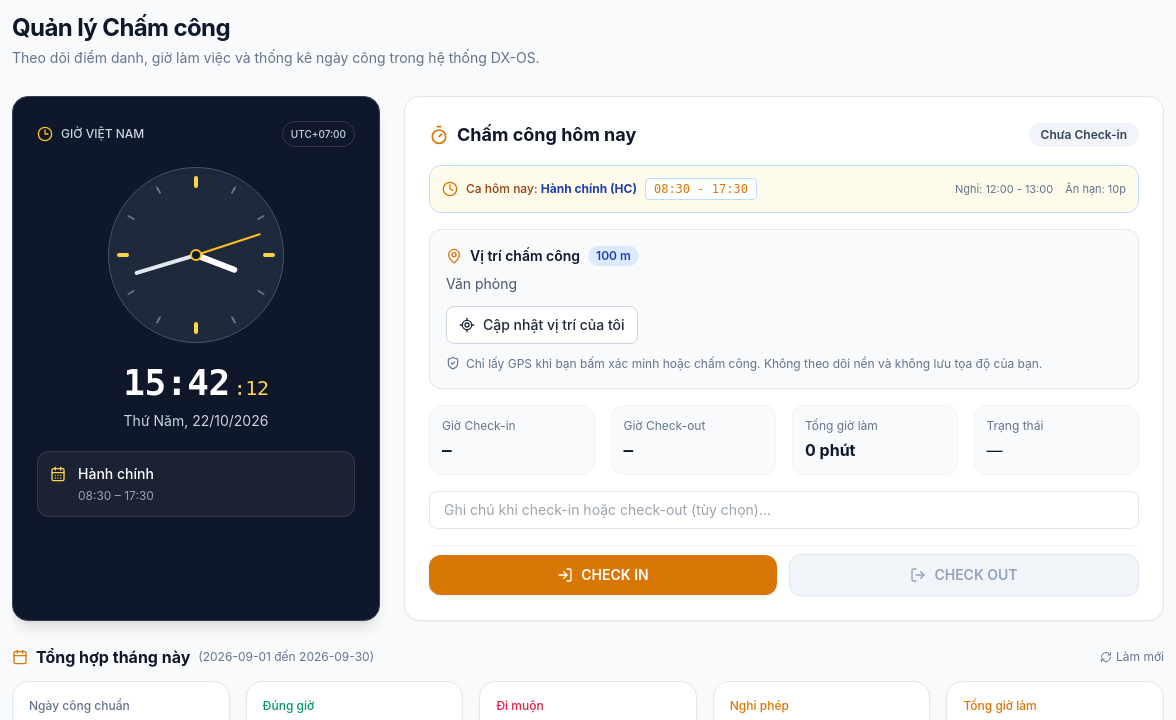
Test: AttendancePage Component & User Flows › 12. rejects a distant device and displays its distance without posting
Click the button "Cập nhật vị trí của tôi". click: {"x": 542, "y": 325}
box: [446,306,638,344]
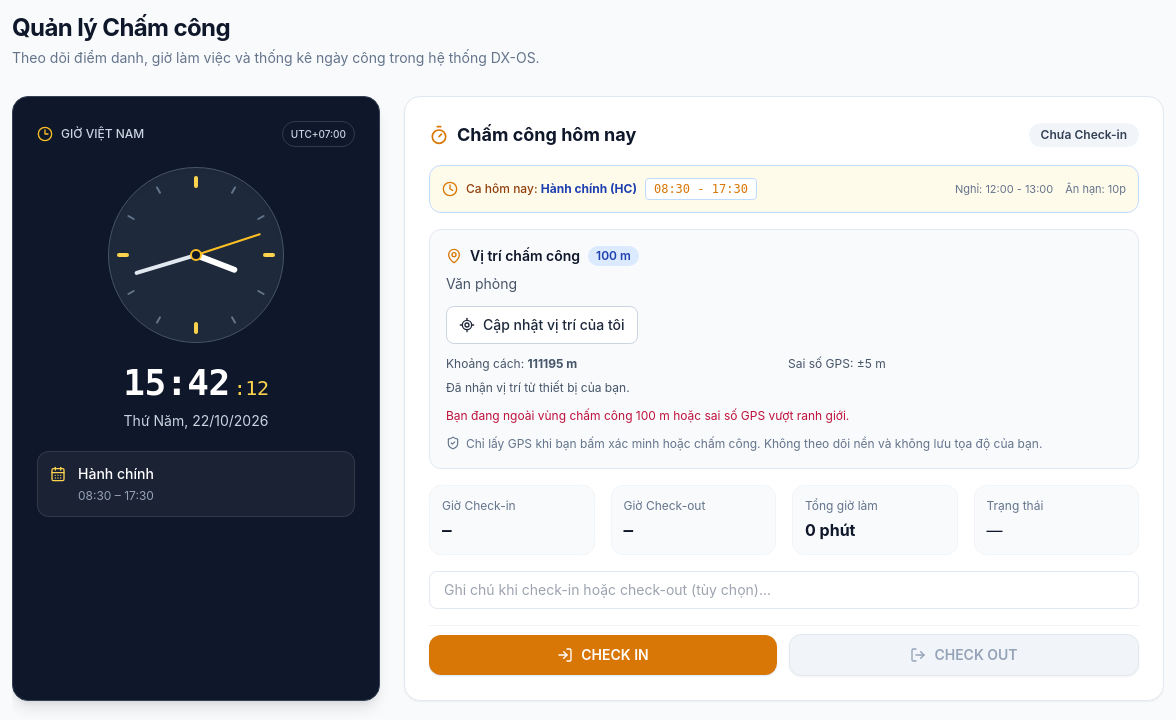
Expected: the text "Bạn đang ngoài vùng chấm công 100 m hoặc sai số GPS vượt ranh giới." is shown, [446,408,849,423]
Expected: the text "Khoảng cách: 111195 m" is shown, [446,356,577,371]
